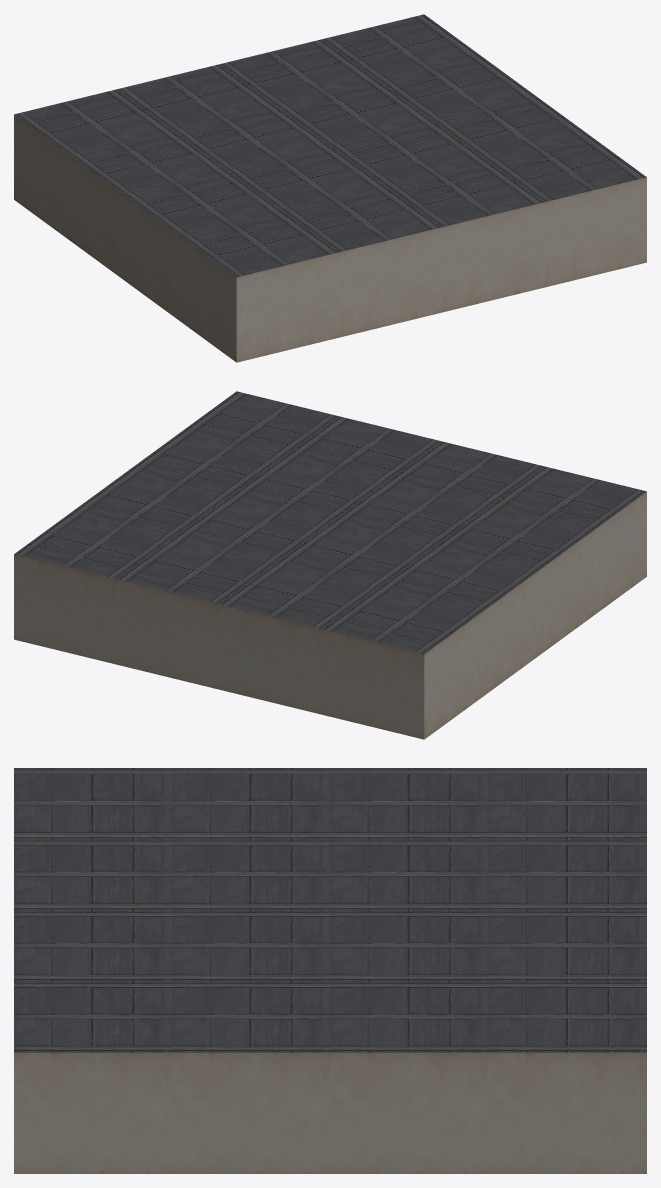
Rendered from House.fbx.
The picture shows the model from 3 angles, top to bottom: view 1: azimuth 30°, elevation 25°; view 2: azimuth 150°, elevation 25°; view 3: azimuth 270°, elevation 25°; orthographic projection. The views are drawn at different scales.
Visible parts, largest first — view 1: Body; view 2: Body; view 3: Body.
Part boxes in pixels (box(x1,y1,x2,y2)): Body: box(14, 14, 646, 362); Body: box(14, 391, 646, 739); Body: box(14, 768, 646, 1173).
Size of the model in its own units: 34.81 by 6.92 by 32.72.
